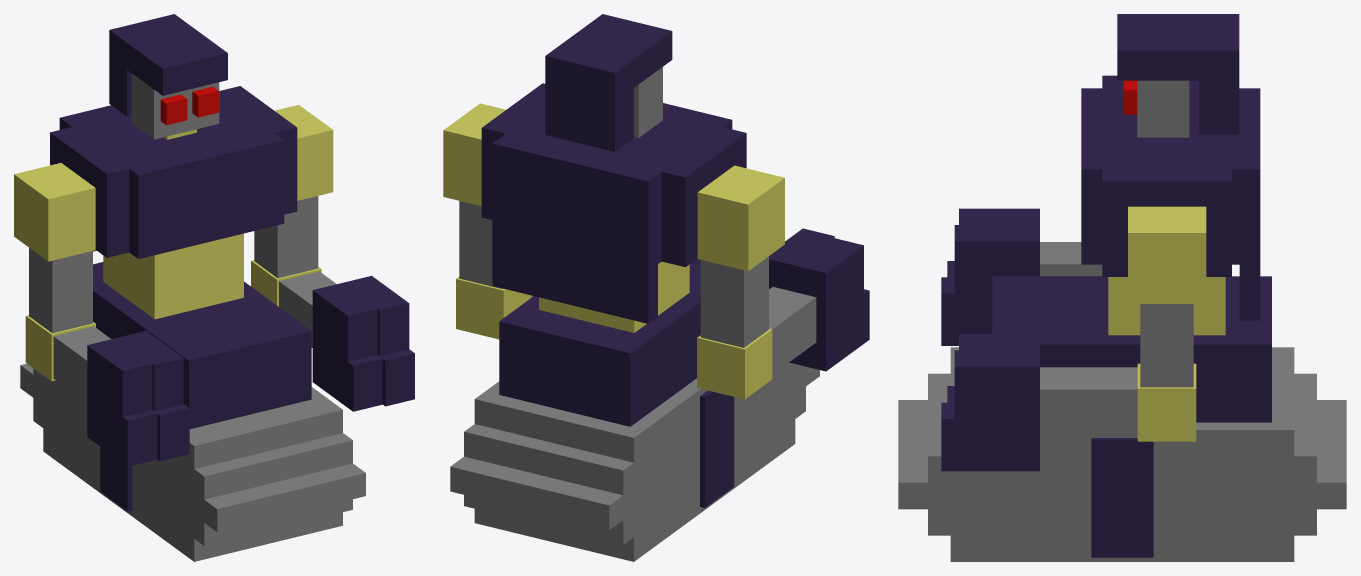
File: assets_fps_robot.fbx
3 views of the same model, side by side, from view 1: azimuth 30°, elevation 25°; view 2: azimuth 150°, elevation 25°; view 3: azimuth 270°, elevation 25° (orthographic). The views are drawn at different scales.
Visible parts, largest first — view 1: Cylinder, Cube, Cube.005, Cube.004, Cube.008, Cube.001, Sphere, Sphere.006, Cube.006, Cube.002, Sphere.004, Cube.007 (+5 smaller); view 2: Cylinder, Cube, Cube.005, Cube.001, Cube.008, Sphere.006, Cube.006, Sphere.007, Sphere.004, Cube.007, Sphere.005, Sphere (+1 smaller); view 3: Cylinder, Cube, Cube.005, Cube.001, Cube.004, Cube.008, Sphere.004, Cube.003, Cube.002, Sphere.005, Sphere, Cube.007.
Part boxes in pixels (<box>): Cylinder: <box>20,363,365,561</box>; Cube: <box>50,86,297,259</box>; Cube.005: <box>93,262,311,428</box>; Cube.004: <box>312,275,414,411</box>; Cube.008: <box>87,331,189,466</box>; Cube.001: <box>109,14,227,139</box>; Sphere: <box>103,233,243,319</box>; Sphere.006: <box>14,163,95,261</box>; Cube.006: <box>29,248,92,333</box>; Cube.002: <box>254,196,318,278</box>; Sphere.004: <box>274,105,333,200</box>; Cube.007: <box>53,326,111,402</box>; Cylinder: <box>450,362,819,561</box>; Cube: <box>481,83,746,323</box>; Cube.005: <box>499,259,700,426</box>; Cube.001: <box>545,14,672,151</box>; Cube.008: <box>769,228,869,371</box>; Sphere.006: <box>697,165,784,270</box>; Cube.006: <box>700,256,768,347</box>; Sphere.007: <box>697,328,772,399</box>; Sphere.004: <box>443,103,505,205</box>; Cube.007: <box>769,287,816,374</box>; Sphere.005: <box>456,277,531,339</box>; Sphere: <box>539,261,689,332</box>; Cylinder: <box>898,347,1346,561</box>; Cube: <box>1081,75,1260,320</box>; Cube.005: <box>992,276,1271,422</box>; Cube.001: <box>1117,14,1239,137</box>; Cube.004: <box>941,334,1039,471</box>; Cube.008: <box>941,208,1039,345</box>; Sphere.004: <box>1128,206,1206,303</box>; Cube.003: <box>1040,367,1137,437</box>; Cube.002: <box>1140,304,1193,387</box>; Sphere.005: <box>1137,363,1196,441</box>; Sphere: <box>1108,277,1225,335</box>; Cube.007: <box>1040,242,1102,276</box>.
Size of the model in its own units: 383 by 551 by 458.
